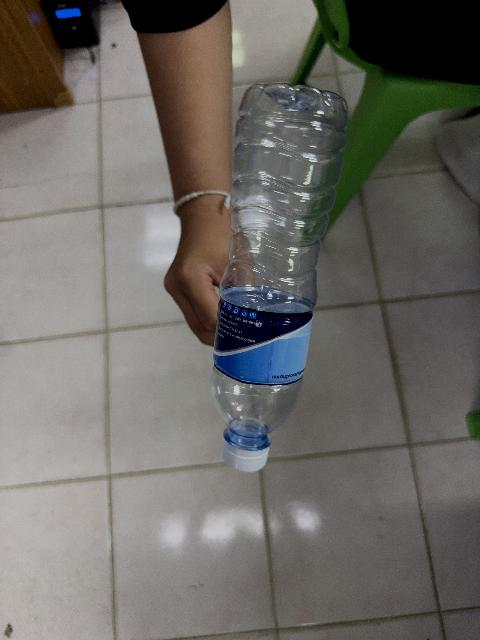bottle: (212, 84, 347, 471)
